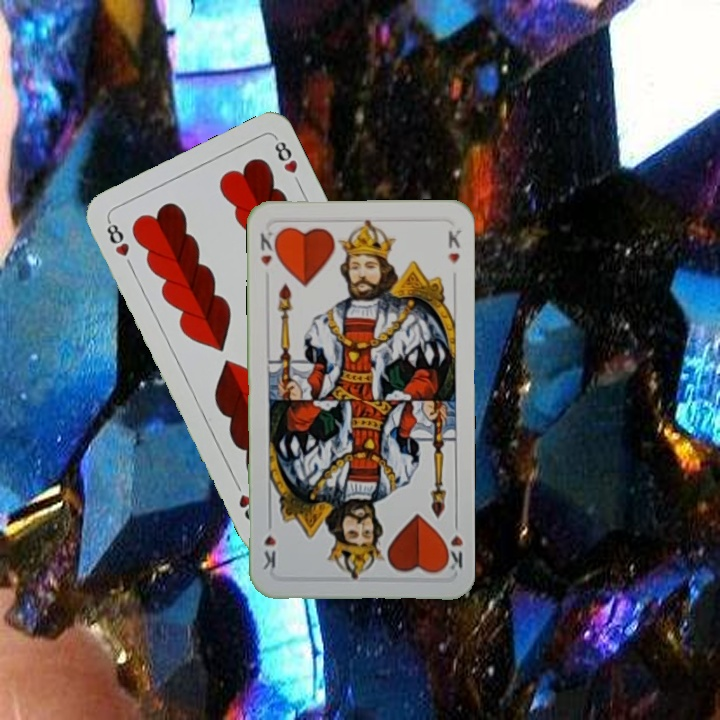H8: (102, 216, 132, 259)
HK: (440, 514, 466, 573), (256, 228, 280, 269)
